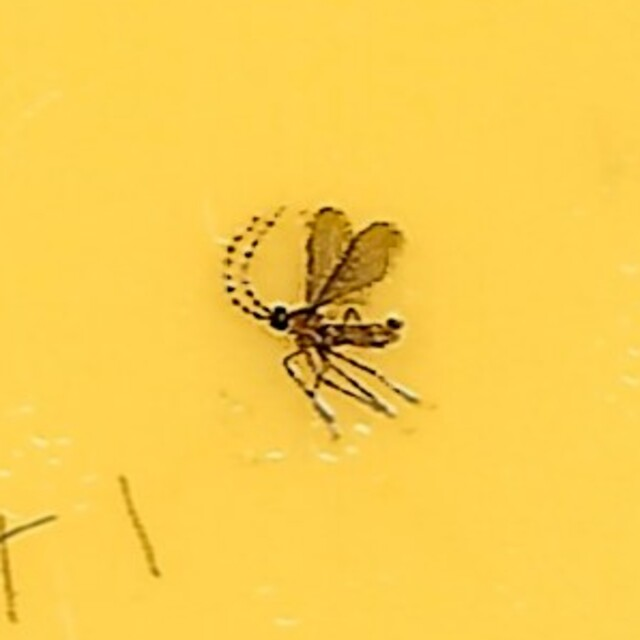Nematocera: (215, 201, 425, 439)
